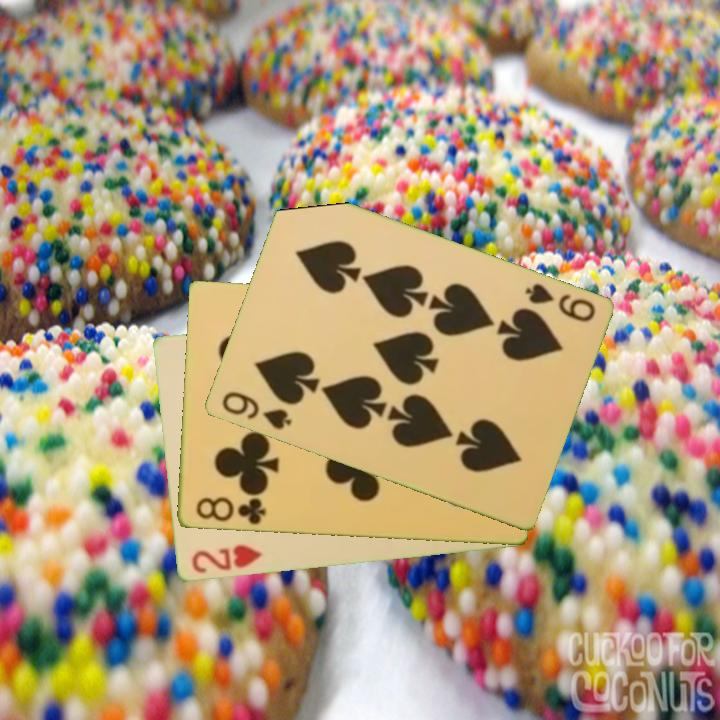2h: (188, 542, 264, 577)
8c: (192, 493, 269, 528)
9s: (520, 280, 598, 325), (217, 388, 294, 433)
